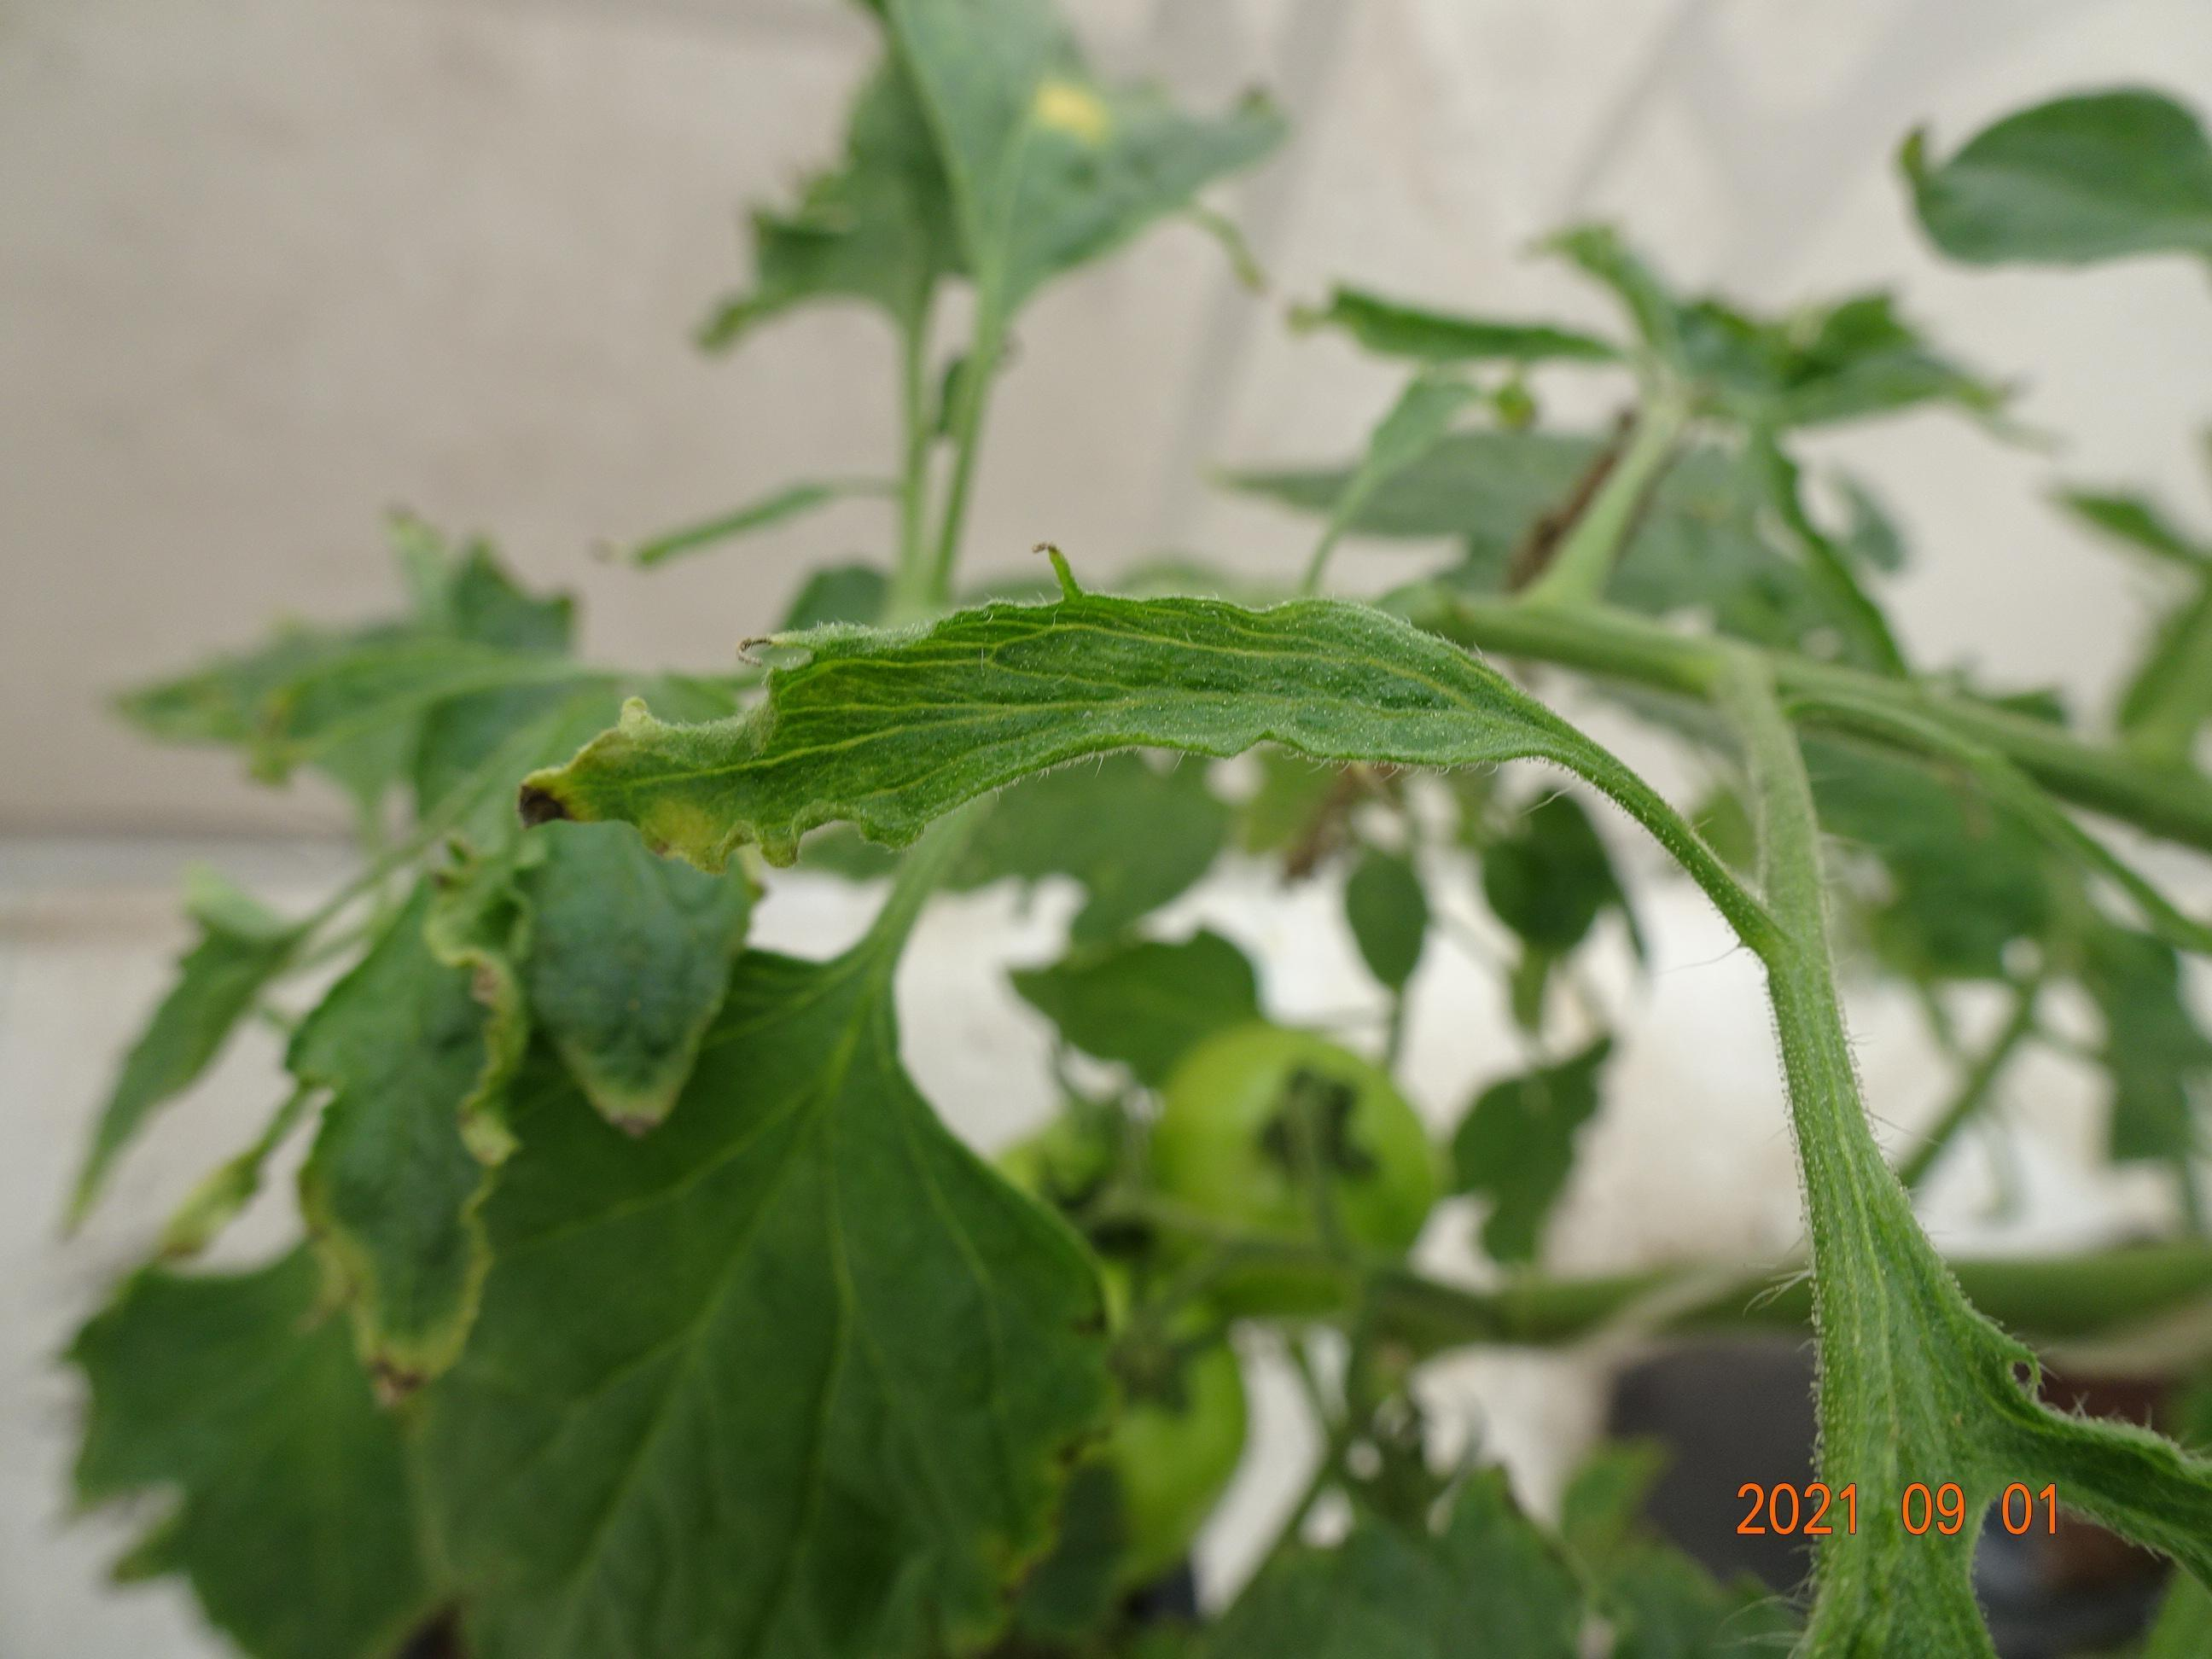Rugose leaf: (519, 591, 1672, 871)
Rugose stem: (1719, 657, 2040, 1656)
